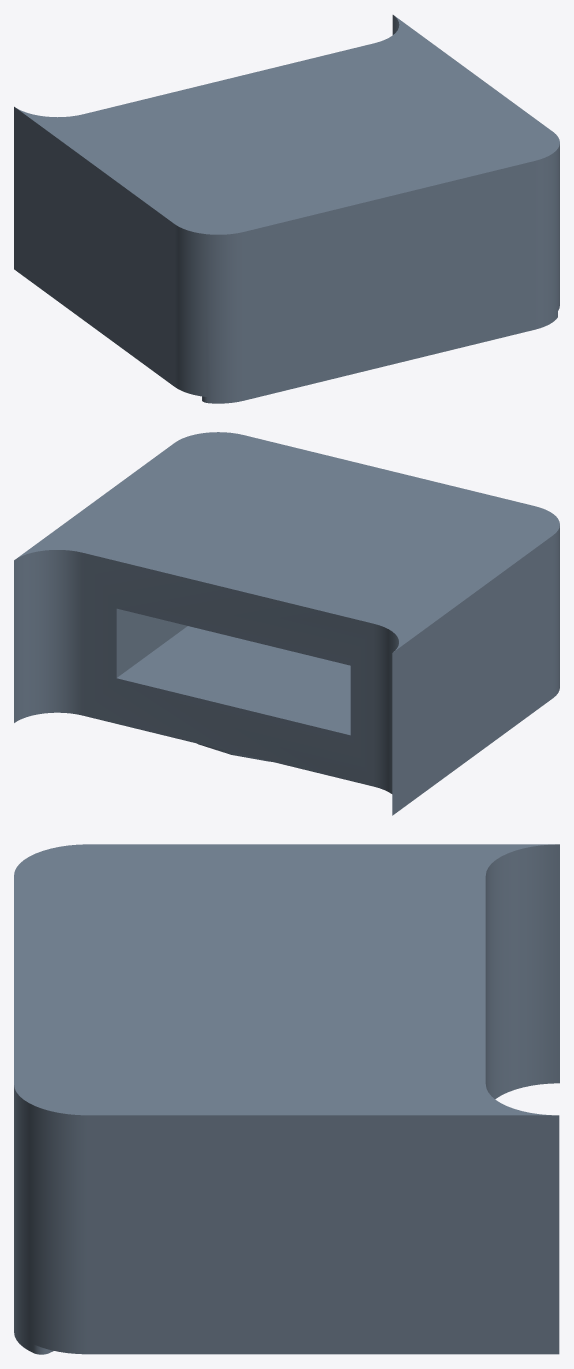
File: original-1.obj
3 renders of one model, top to bottom at view 1: azimuth 30°, elevation 25°; view 2: azimuth 150°, elevation 25°; view 3: azimuth 270°, elevation 25°, orthographic. The views are drawn at different scales.
Parts seen in each view (by area): view 1: Component_1_1/Component_1/mesh1/mesh1-geometry#mesh1-geometry; view 2: Component_1_1/Component_1/mesh1/mesh1-geometry#mesh1-geometry; view 3: Component_1_1/Component_1/mesh1/mesh1-geometry#mesh1-geometry.
Boxes of the visible parts, x1=… form: Component_1_1/Component_1/mesh1/mesh1-geometry#mesh1-geometry: x1=14, y1=15, x2=559, y2=403; Component_1_1/Component_1/mesh1/mesh1-geometry#mesh1-geometry: x1=14, y1=432, x2=559, y2=815; Component_1_1/Component_1/mesh1/mesh1-geometry#mesh1-geometry: x1=14, y1=844, x2=559, y2=1354.
Size of the model in its own units: 0.4275 by 0.1823 by 0.3639.
